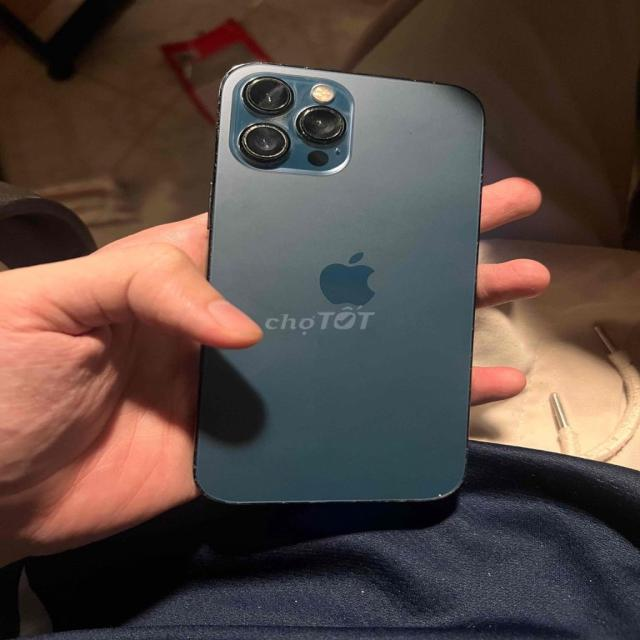scratch: (188, 450, 476, 511), (186, 64, 230, 290)
